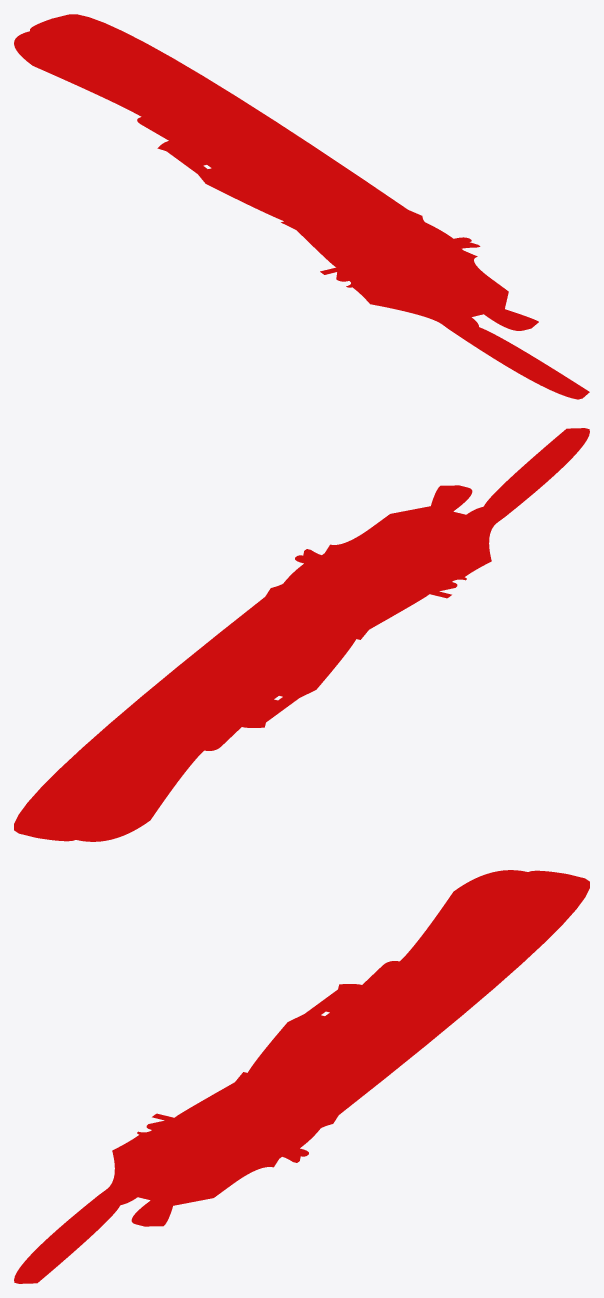
3 renders of one model, top to bottom at view 1: azimuth 30°, elevation 25°; view 2: azimuth 150°, elevation 25°; view 3: azimuth 330°, elevation 25°, orthographic. The views are drawn at different scales.
Parts seen in each view (by area): view 1: Text; view 2: Text; view 3: Text.
Boxes of the visible parts, box(x1,y1,x2,y2) form: Text: box(14, 14, 589, 399); Text: box(14, 428, 589, 841); Text: box(14, 870, 589, 1283).
Bounding box in the file's own units: 7.08 × 6.92e-06 × 42.46.
